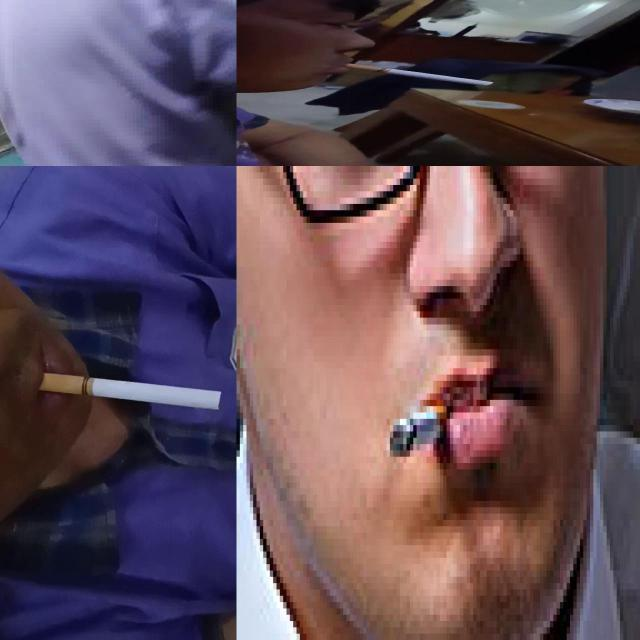rokok: (41, 374, 225, 412), (345, 62, 497, 86), (389, 402, 449, 458)
